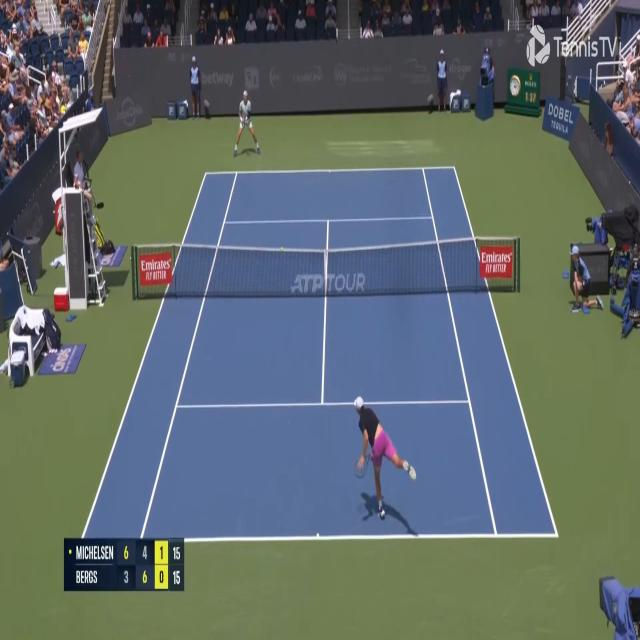tennis-player: (351, 392, 421, 527), (234, 89, 261, 158)
